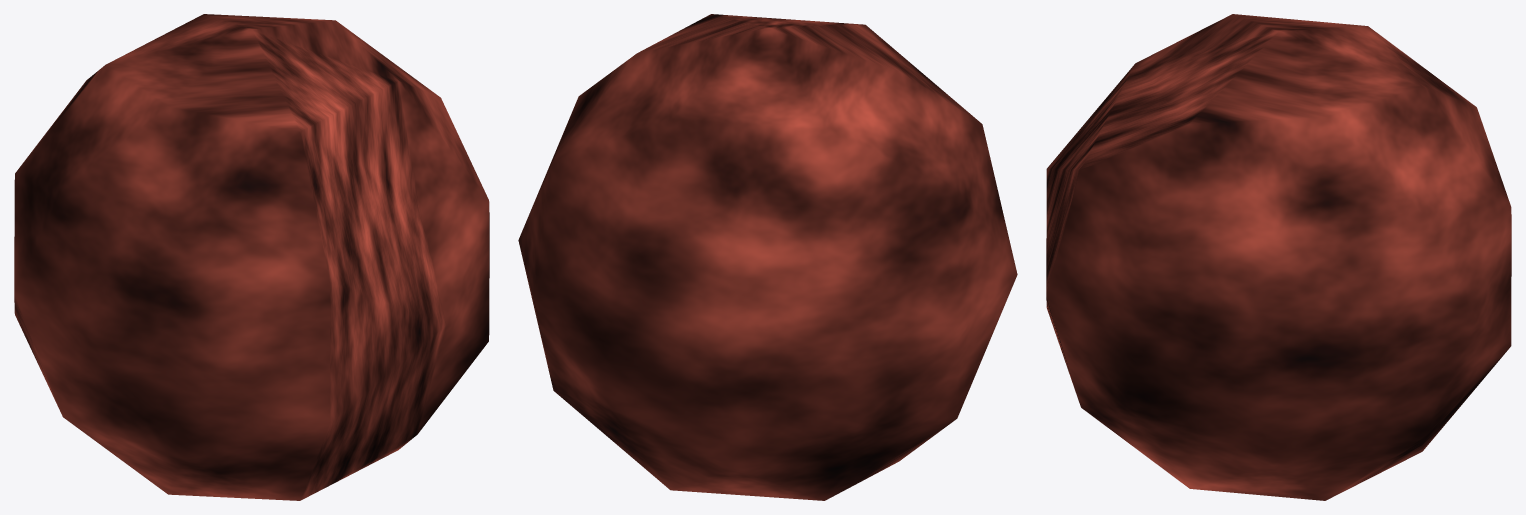
File: procedural_rock_Bad.gltf
3 views of the same model, side by side, from view 1: azimuth 30°, elevation 25°; view 2: azimuth 150°, elevation 25°; view 3: azimuth 270°, elevation 25° (orthographic).
Visible parts, largest first — view 1: IcoRock; view 2: IcoRock; view 3: IcoRock.
Boxes of the visible parts, bbox=[...] form: IcoRock: bbox=[14, 14, 489, 500]; IcoRock: bbox=[518, 14, 1017, 500]; IcoRock: bbox=[1046, 14, 1511, 500].
Size of the model in its own units: 1.96 by 2 by 1.87.
1 material, 1 textured.
